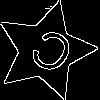C: (20, 26, 78, 85)
